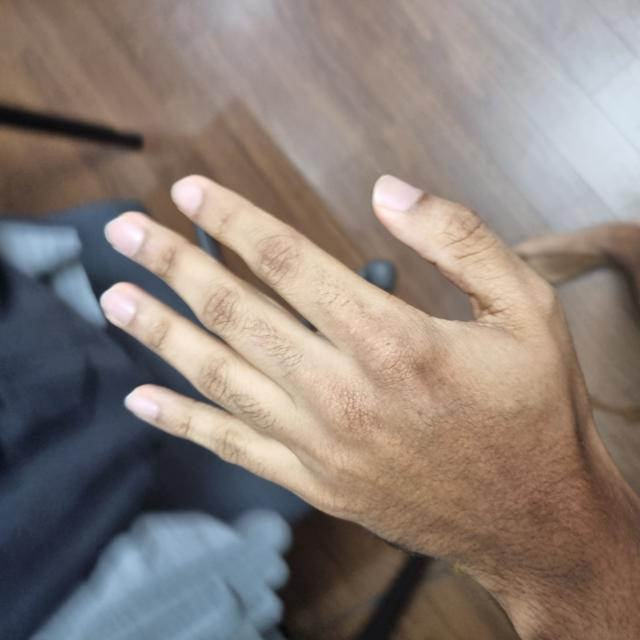Paper: (61, 106, 461, 603)
